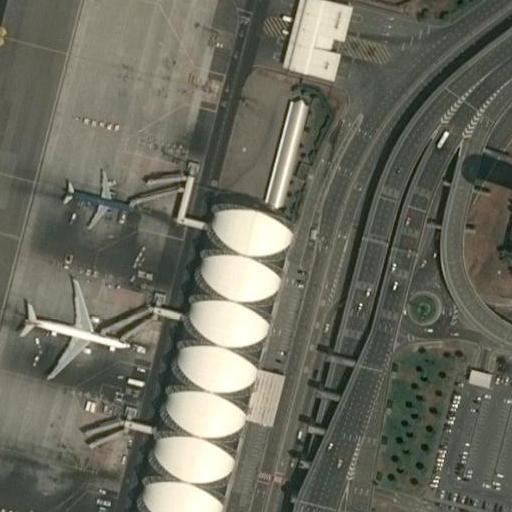Aircraft: (20, 279, 123, 382)
